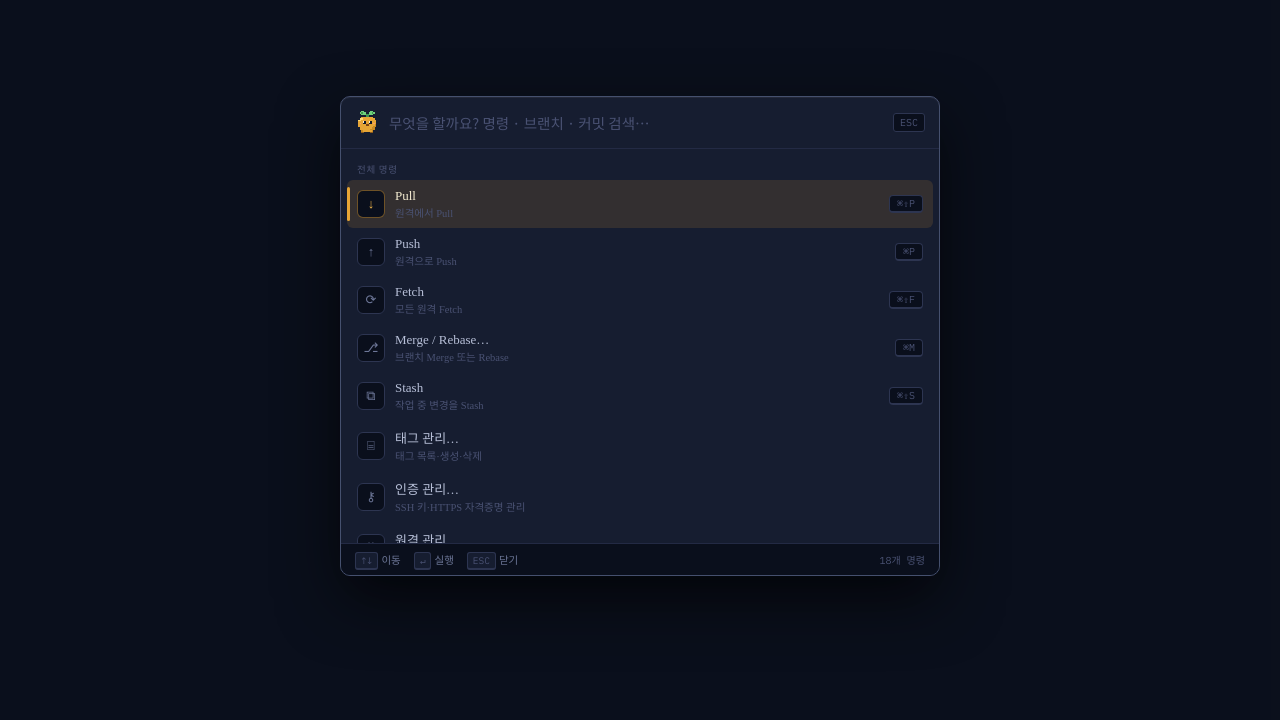
Test: CommandPalette — 상황 제안 + 검색 › 검색어로 명령을 거른다
Type "push" into the field with placeholder "무엇을 할까요? 명령 · 브랜치 · 커밋 검색…". click: point(636, 122)
box: [389, 112, 883, 133]
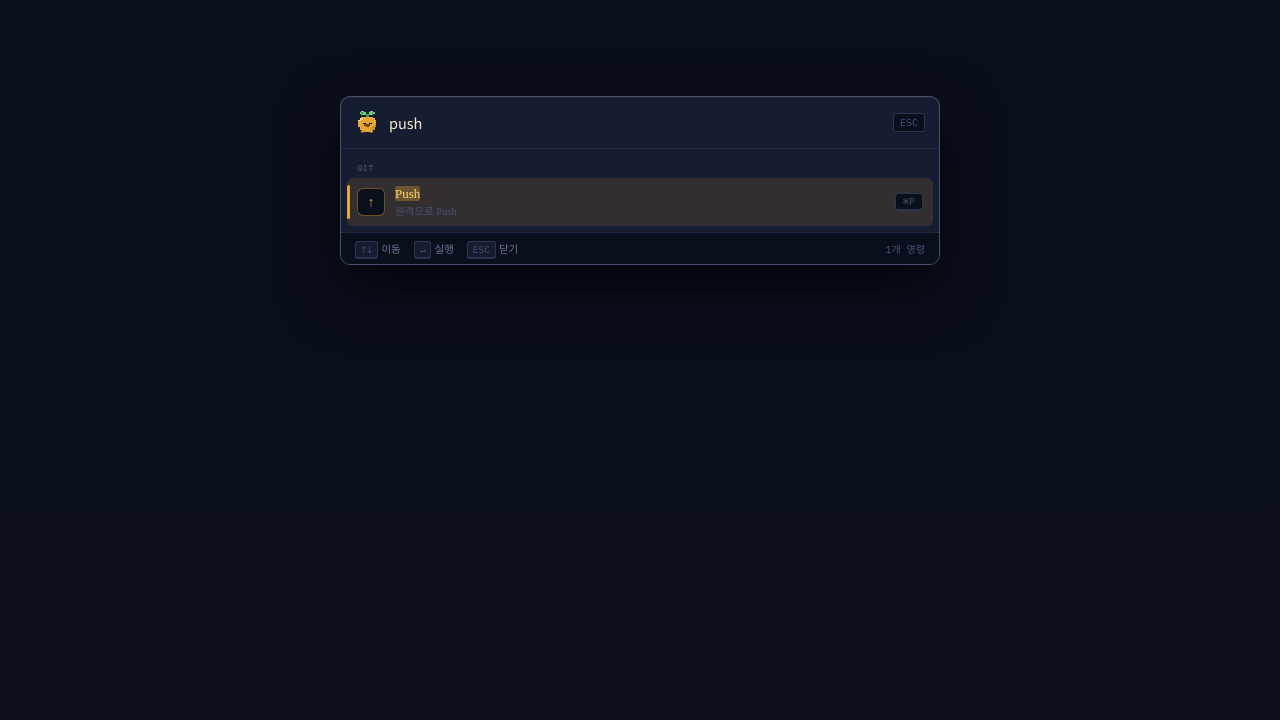
Check: the text "Push" is shown, box [395, 186, 420, 201]
Check: the text "Fetch" is gone
